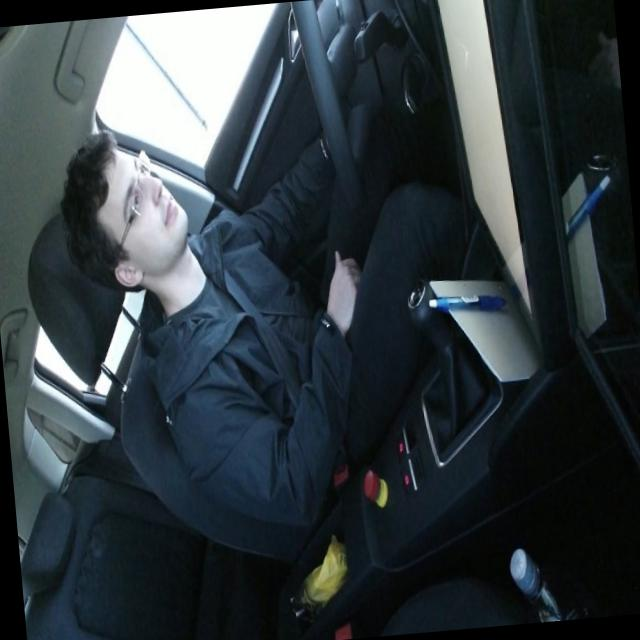pen: (427, 288, 506, 315)
